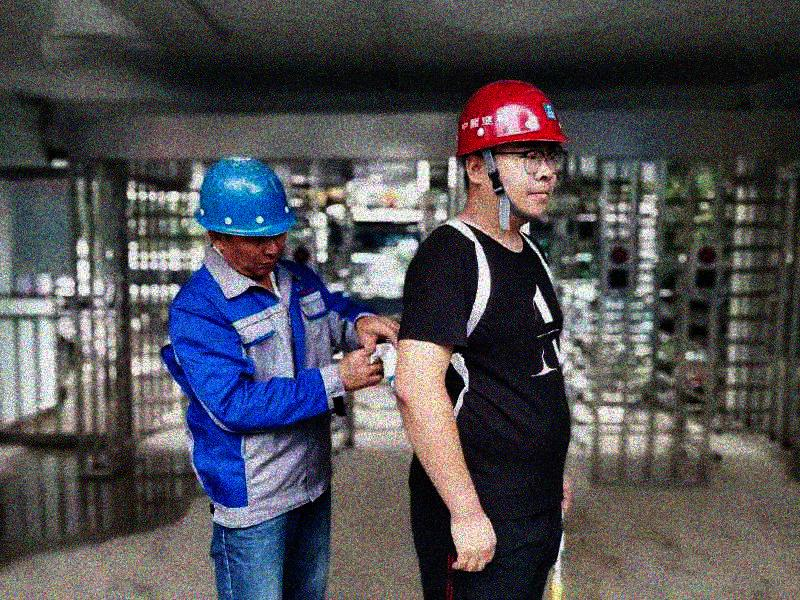helmet: (451, 75, 568, 222), (194, 153, 296, 280)
